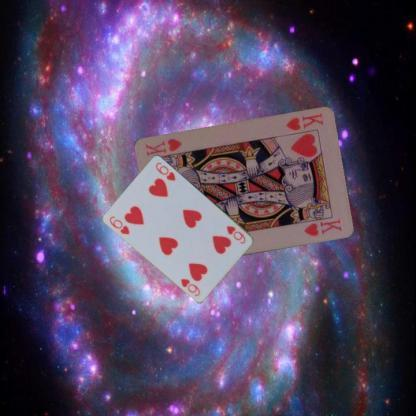6h: (107, 214, 131, 236), (224, 223, 247, 245)
Kh: (283, 110, 324, 132)
